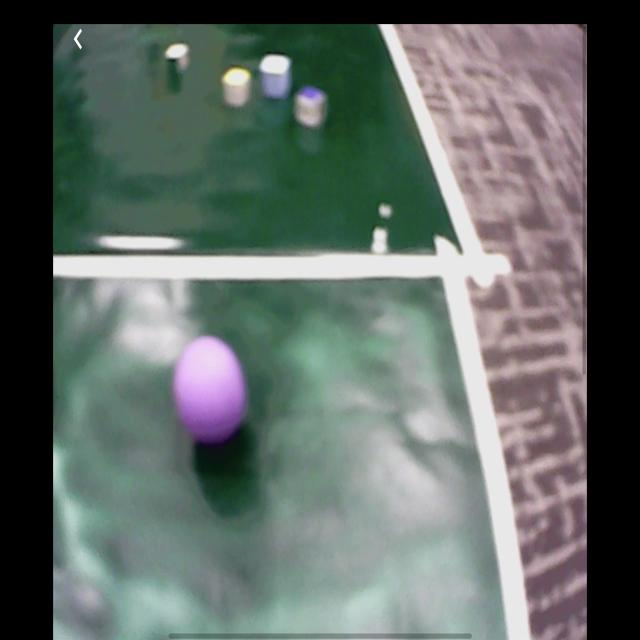ball: (172, 335, 248, 445)
